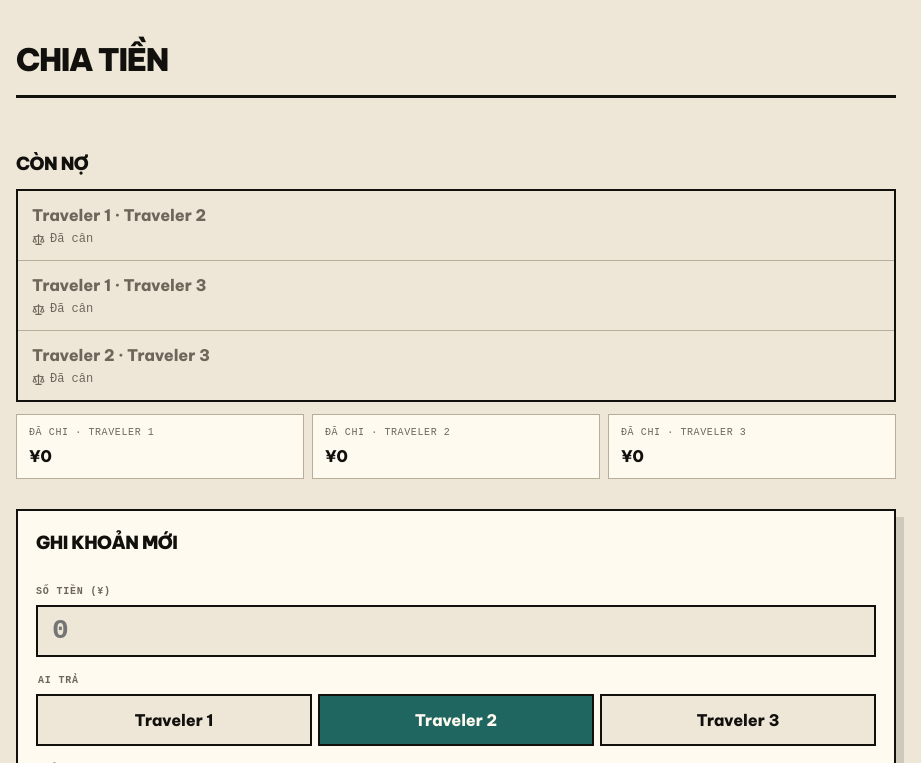
Scenario: ExpenseBoard › saves a new entry with the chosen payer and participants
Type "90" into the field labelled "Số tiền (¥)" at (456,631), box [36,605,876,657]
(page scrolled)
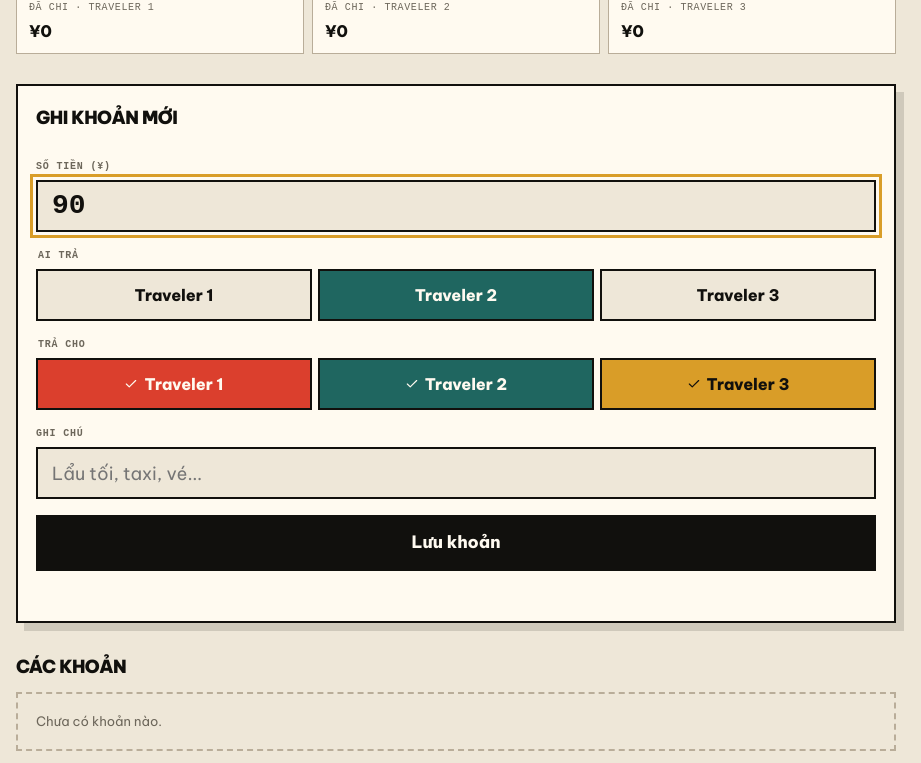
Click the button "Traveler 1" below "Trả cho" at (174,384), box [36,358,312,410]
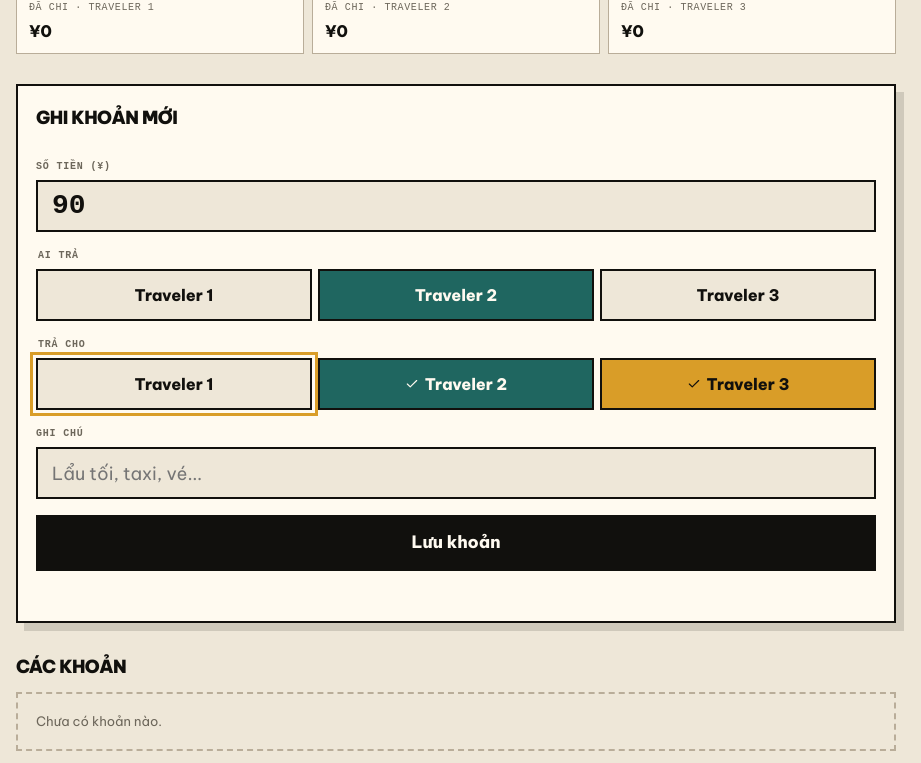
Type "Lẩu" into the field labelled "Ghi chú" at (456,473), box [36,447,876,499]
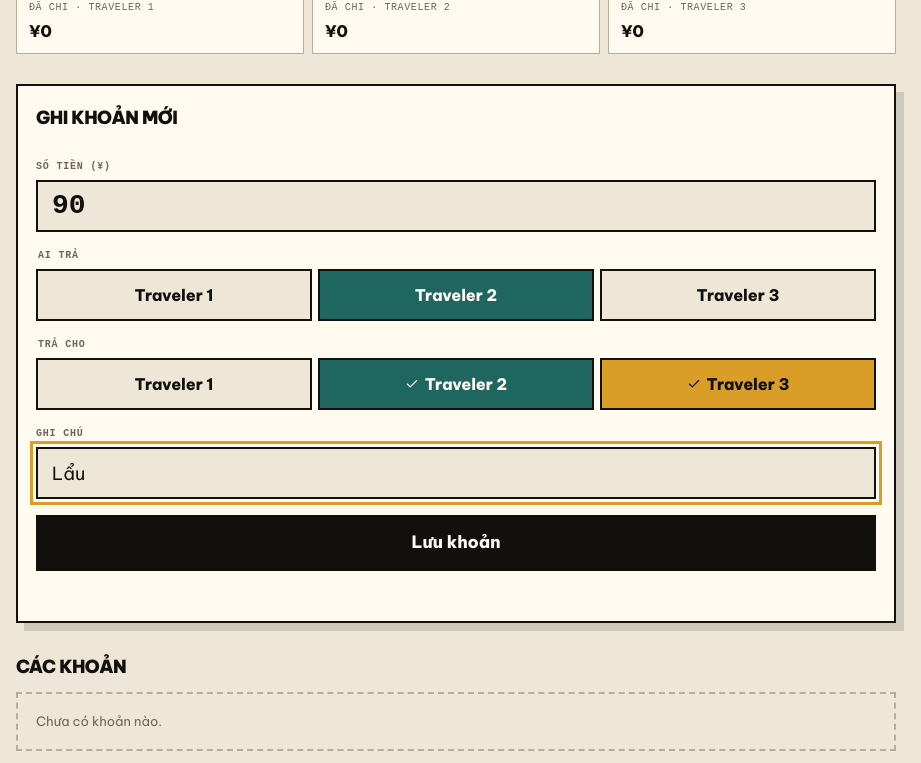
Click the button "Lưu khoản" at (456,543), box [36,515,876,571]
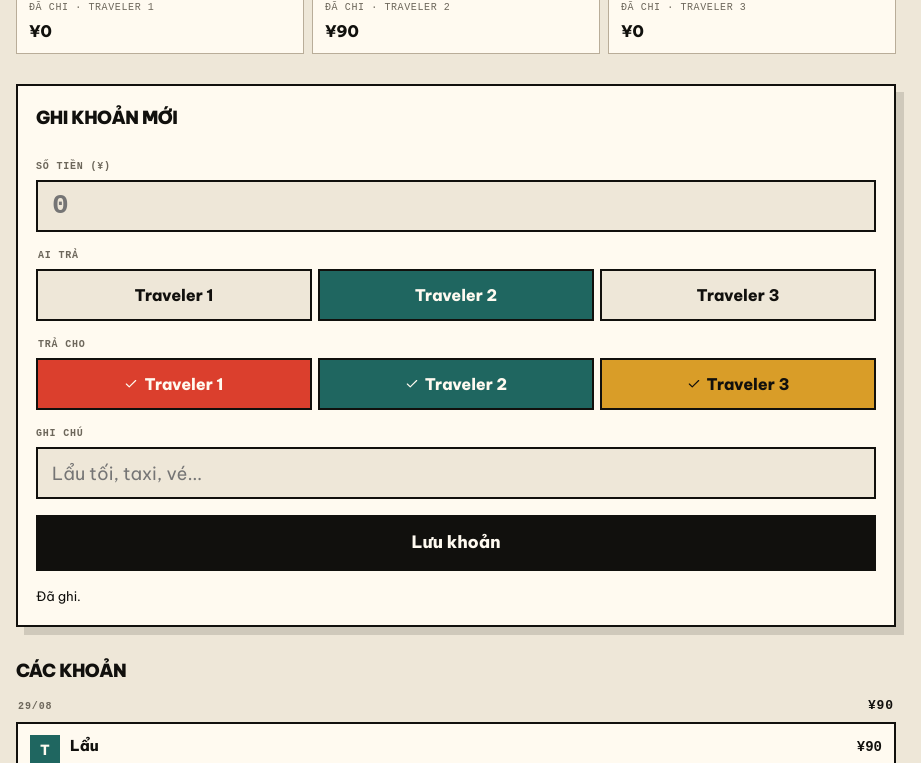
Expected: the text "Lẩu" is shown, [70,736,99,755]
